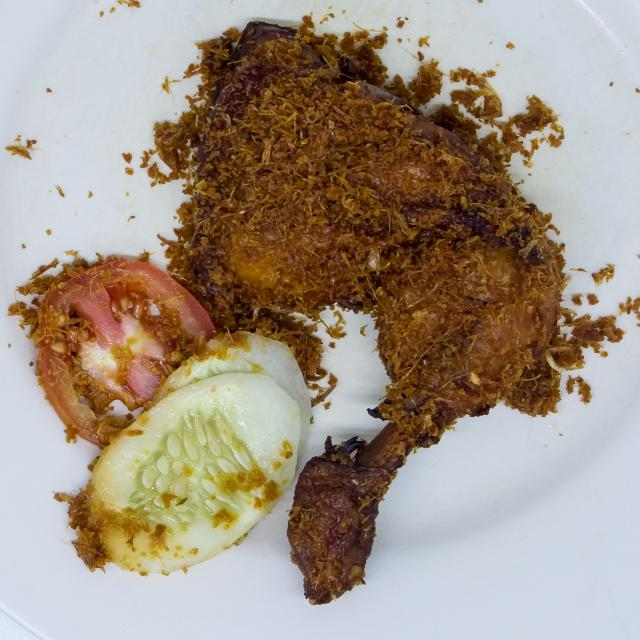Ayam-Goreng-Lengkuas: (158, 9, 576, 614)
